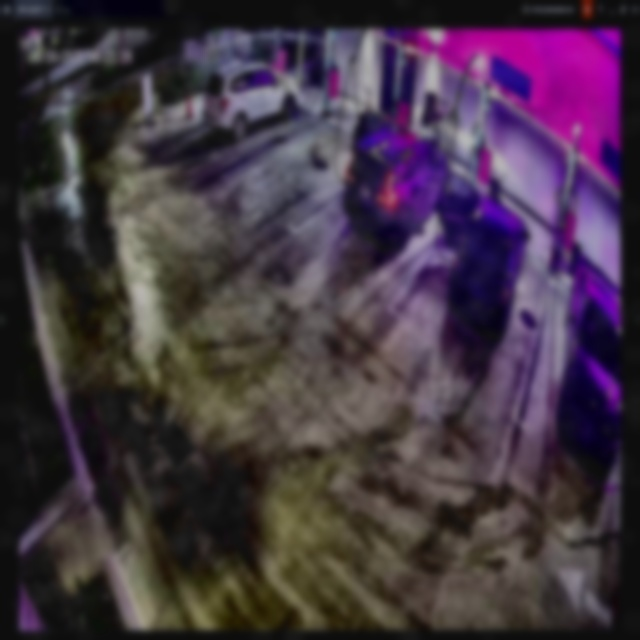Car: (344, 109, 448, 246), (445, 170, 528, 339)
